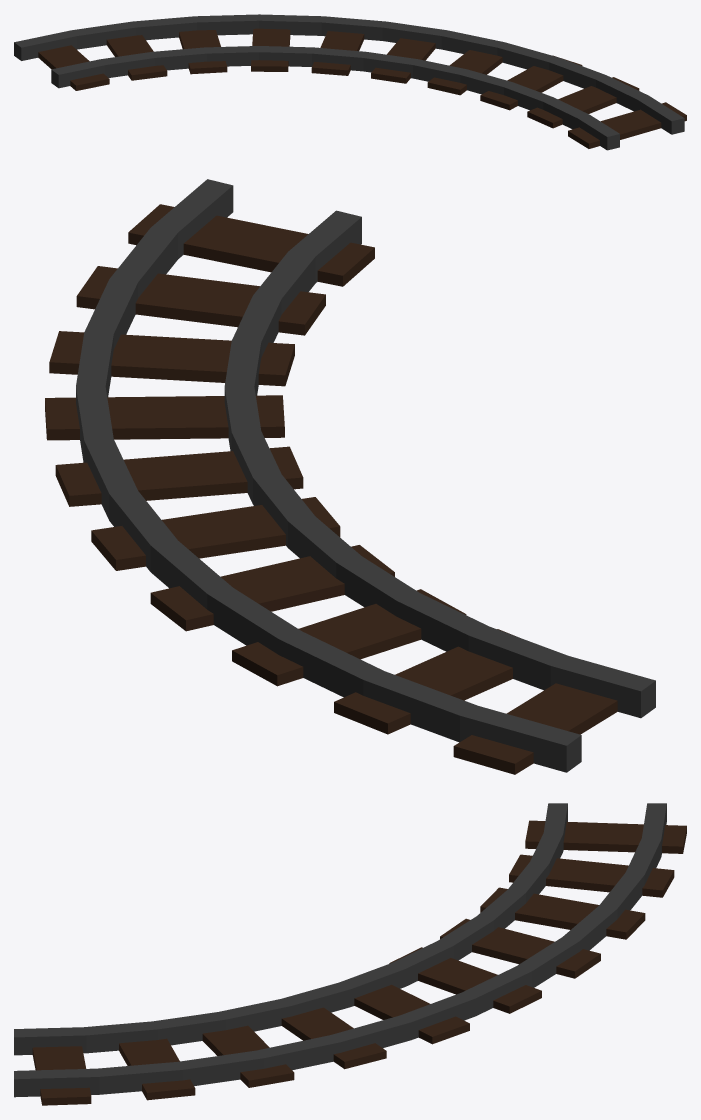
Rendered from Cave_Lair_Rail_Road_Track_Corner_Large_01.fbx.
3 views of the same model, one above another, from view 1: azimuth 30°, elevation 25°; view 2: azimuth 150°, elevation 25°; view 3: azimuth 270°, elevation 25° (orthographic). The views are drawn at different scales.
Parts seen in each view (by area): view 1: Cave_Lair_Rail_Road_Track_Corner_Large_01; view 2: Cave_Lair_Rail_Road_Track_Corner_Large_01; view 3: Cave_Lair_Rail_Road_Track_Corner_Large_01.
Part boxes in pixels (left/top/right/bottom): Cave_Lair_Rail_Road_Track_Corner_Large_01: left=14, top=14, right=686, bottom=150; Cave_Lair_Rail_Road_Track_Corner_Large_01: left=45, top=179, right=655, bottom=774; Cave_Lair_Rail_Road_Track_Corner_Large_01: left=14, top=803, right=686, bottom=1105.
Bounding box in the file's own units: 3.4 × 0.1 × 3.4.
